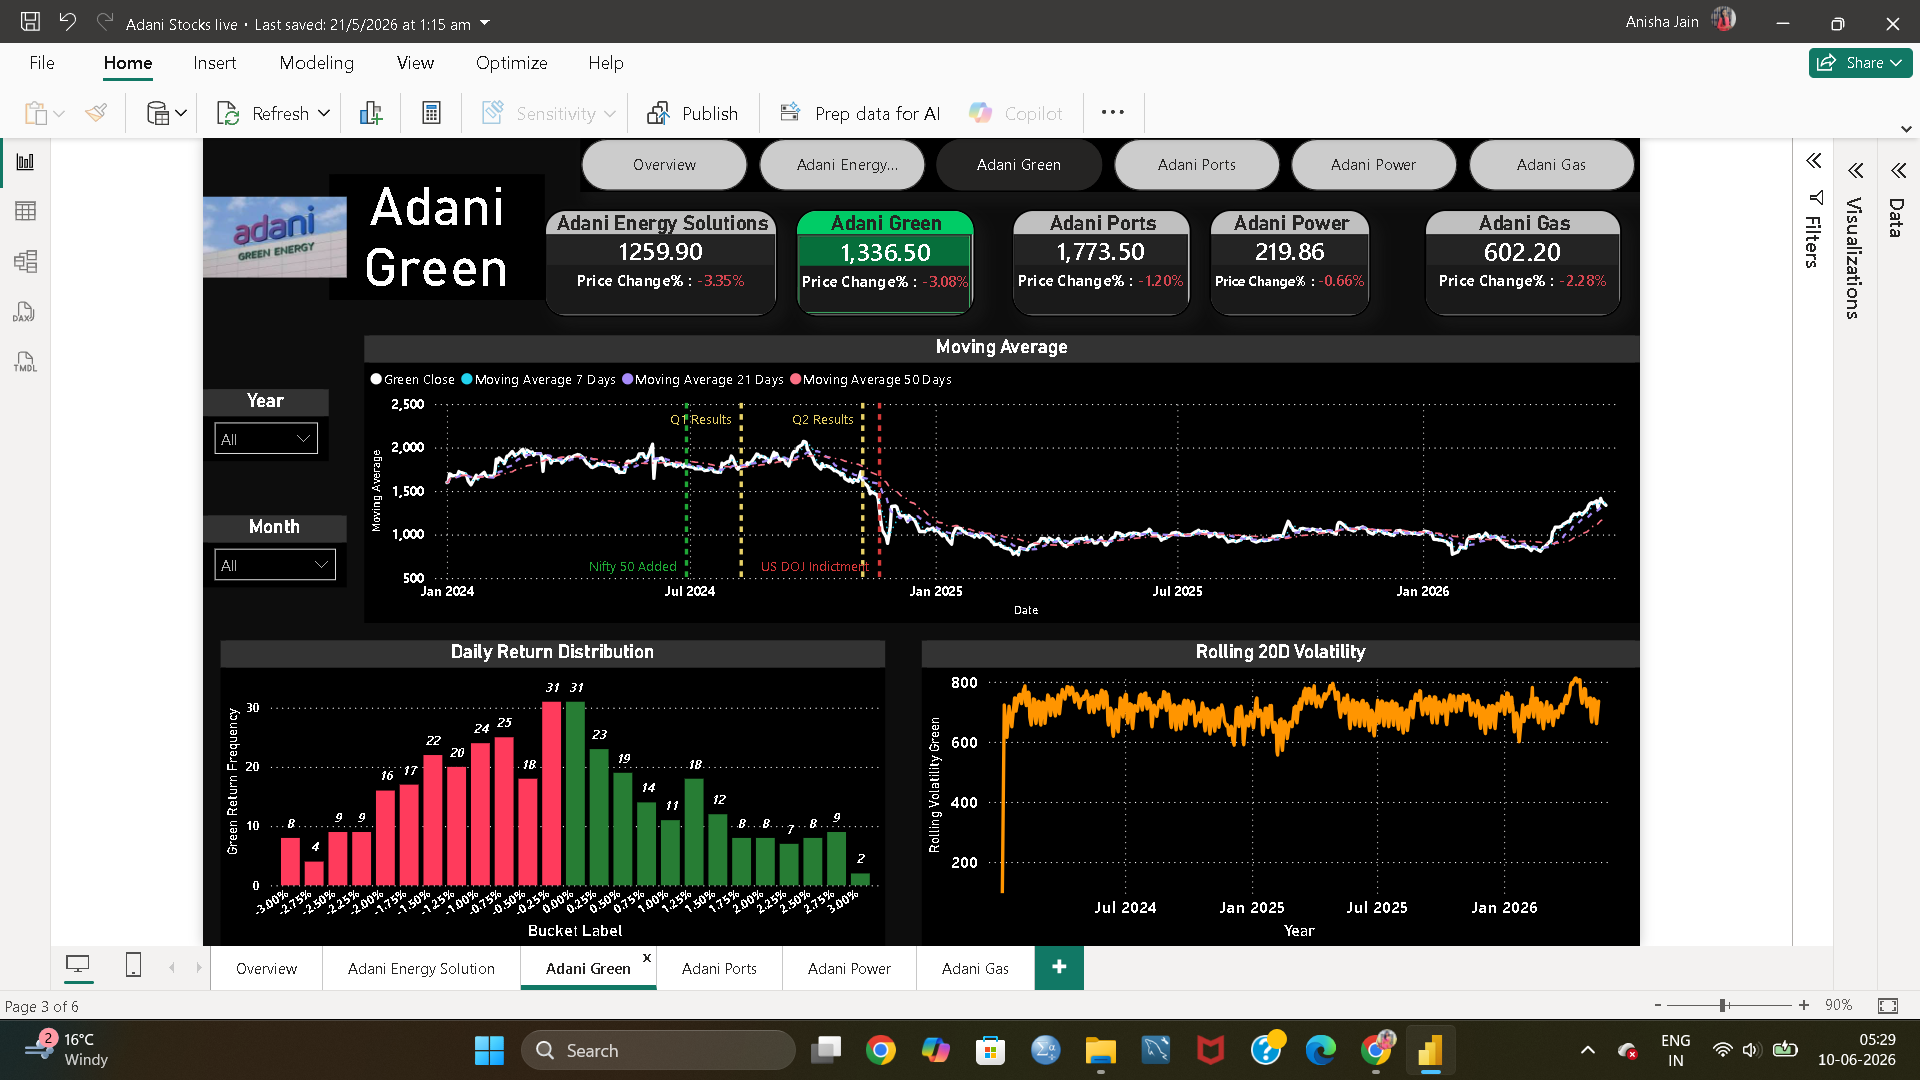

The dashboard page shown, as its layout file describes it:
{"tool":"powerbi","page":{"name":"Adani Green","canvas":[1280,720],"ordinal":2},"visuals":[{"type":"cardVisual","title":"Adani Energy Solutions","fields":{"Data":["DAX Table.Current Price AENT"]},"box":[304,64,208,96],"z":0},{"type":"cardVisual","title":"Adani Power","fields":{"Data":["DAX Table.Current Price APOWER"]},"box":[896,64,144,96],"z":1000},{"type":"cardVisual","title":"Adani Ports ","fields":{"Data":["DAX Table.Current Price APorts"]},"box":[720,64,160,96],"z":2000},{"type":"cardVisual","title":"Adani Gas ","fields":{"Data":["DAX Table.Current Price ATotalGas"]},"box":[1088,64,176,96],"z":3000},{"type":"cardVisual","title":"Adani Green","fields":{"Data":["DAX Table.Current Price AGreen"]},"box":[528,64,160,96],"z":4000},{"type":"slicer","title":"Year","fields":{"Values":["Date Table.Year"]},"box":[0,224,112,64],"z":5000},{"type":"slicer","title":"Month","fields":{"Values":["Energy Solutions.Date.Variation.Date Hierarchy.Month"]},"box":[0,336,128,64],"z":6000},{"type":"lineChart","title":"Moving Average","fields":{"Y":["Avg(Green.Green Close)","MA.MA7 Green","MA.MA21 Green","MA.MA50 Green"],"Category":["Energy Solutions.Date"]},"box":[144,176,1136,256],"z":7000},{"type":"columnChart","title":"Daily Return Distribution","fields":{"Y":["DAX Table.Green Return Frequency"],"Category":["Green Return Buckets.Bucket Label"]},"box":[16,448,592,272],"z":8000},{"type":"lineChart","title":"Rolling 20D Volatility","fields":{"Y":["DAX Table.Rolling Volatility Green"],"Category":["Green.Date.Variation.Date Hierarchy.Year","Green.Date.Variation.Date Hierarchy.Quarter","Green.Date.Variation.Date Hierarchy.Month","Green.Date.Variation.Date Hierarchy.Day"]},"box":[640,448,640,272],"z":9000},{"type":"pageNavigator","box":[336,0,944,48],"z":10000},{"type":"textbox","title":"Adani Green","box":[112,32,192,112],"z":11000},{"type":"image","box":[0,32,128,112],"z":12000}]}

Visuals, with their boxes on the page's 1280x720 design canvas (x1, y1, x2, y2). These are canvas units, not pixel positions in the 1920x1080 screenshot, which may show the page scaled, cropped or inside an application window:
"Adani Energy Solutions" cardVisual: [304, 64, 512, 160]
"Adani Power" cardVisual: [896, 64, 1040, 160]
"Adani Ports " cardVisual: [720, 64, 880, 160]
"Adani Gas " cardVisual: [1088, 64, 1264, 160]
"Adani Green" cardVisual: [528, 64, 688, 160]
"Year" slicer: [0, 224, 112, 288]
"Month" slicer: [0, 336, 128, 400]
"Moving Average" lineChart: [144, 176, 1280, 432]
"Daily Return Distribution" columnChart: [16, 448, 608, 720]
"Rolling 20D Volatility" lineChart: [640, 448, 1280, 720]
pageNavigator: [336, 0, 1280, 48]
"Adani Green" textbox: [112, 32, 304, 144]
image: [0, 32, 128, 144]
